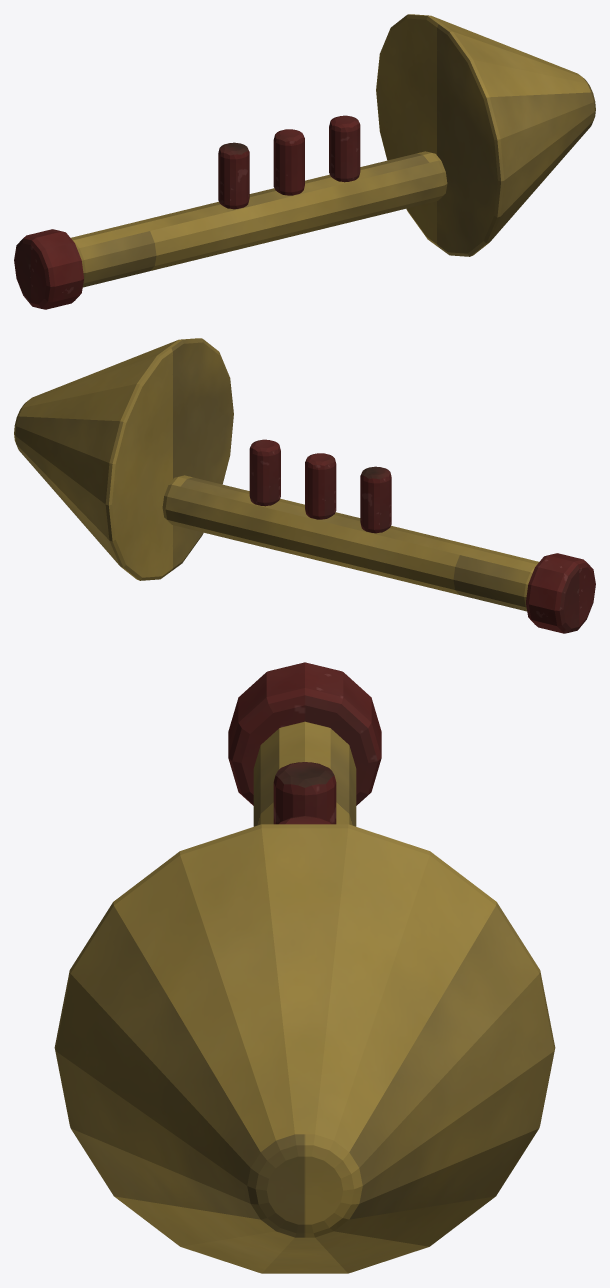
Rendered from TY05_toy_trumpet.glb.
The picture shows the model from 3 angles, top to bottom: view 1: azimuth 30°, elevation 25°; view 2: azimuth 150°, elevation 25°; view 3: azimuth 270°, elevation 25°; orthographic projection. The views are drawn at different scales.
Visible parts, largest first — view 1: TY05_toy_trumpet; view 2: TY05_toy_trumpet; view 3: TY05_toy_trumpet.
Boxes of the visible parts, x1,y1,x2,y2 form: TY05_toy_trumpet: [14, 14, 595, 309]; TY05_toy_trumpet: [14, 338, 595, 633]; TY05_toy_trumpet: [54, 662, 555, 1273].
Bounding box in the file's own units: 0.3 × 0.1155 × 0.1173.
Materials: 2 (2 with a texture image).
